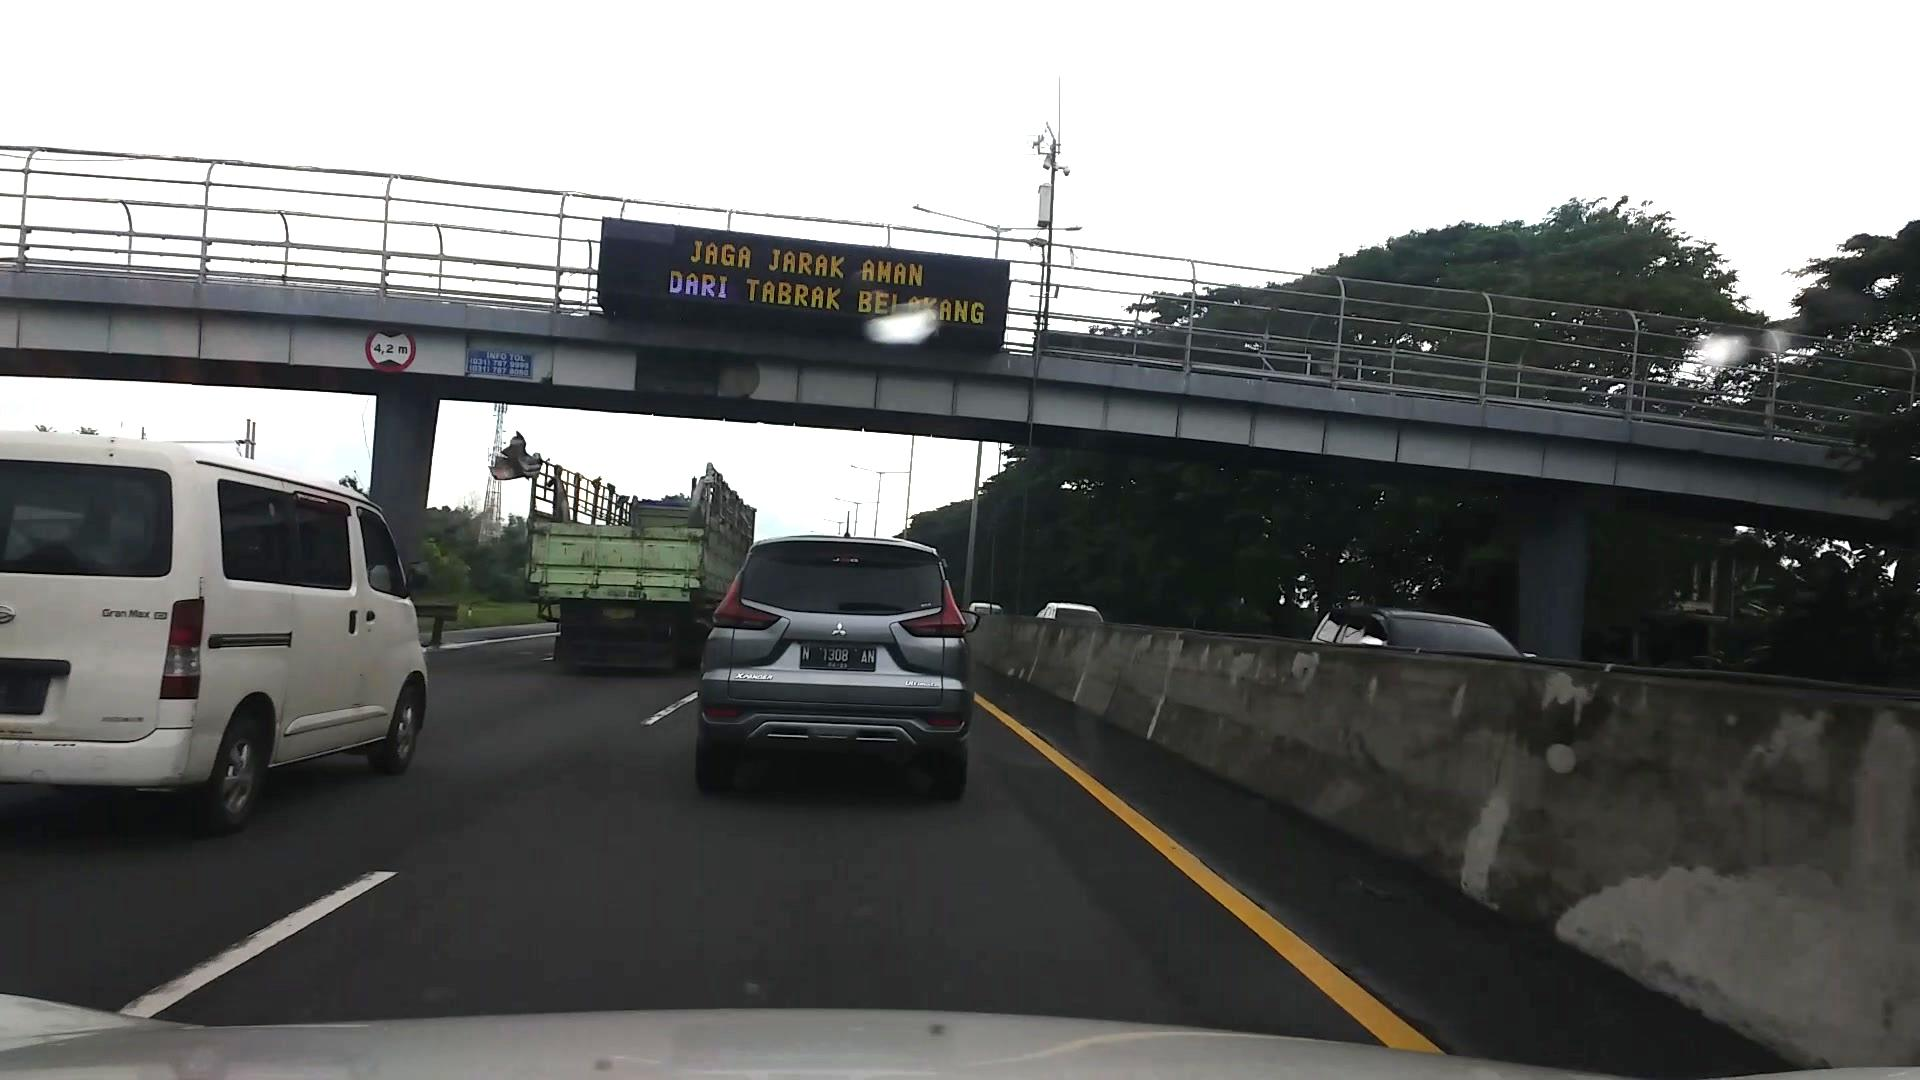plate_positive: (800, 642, 876, 671)
